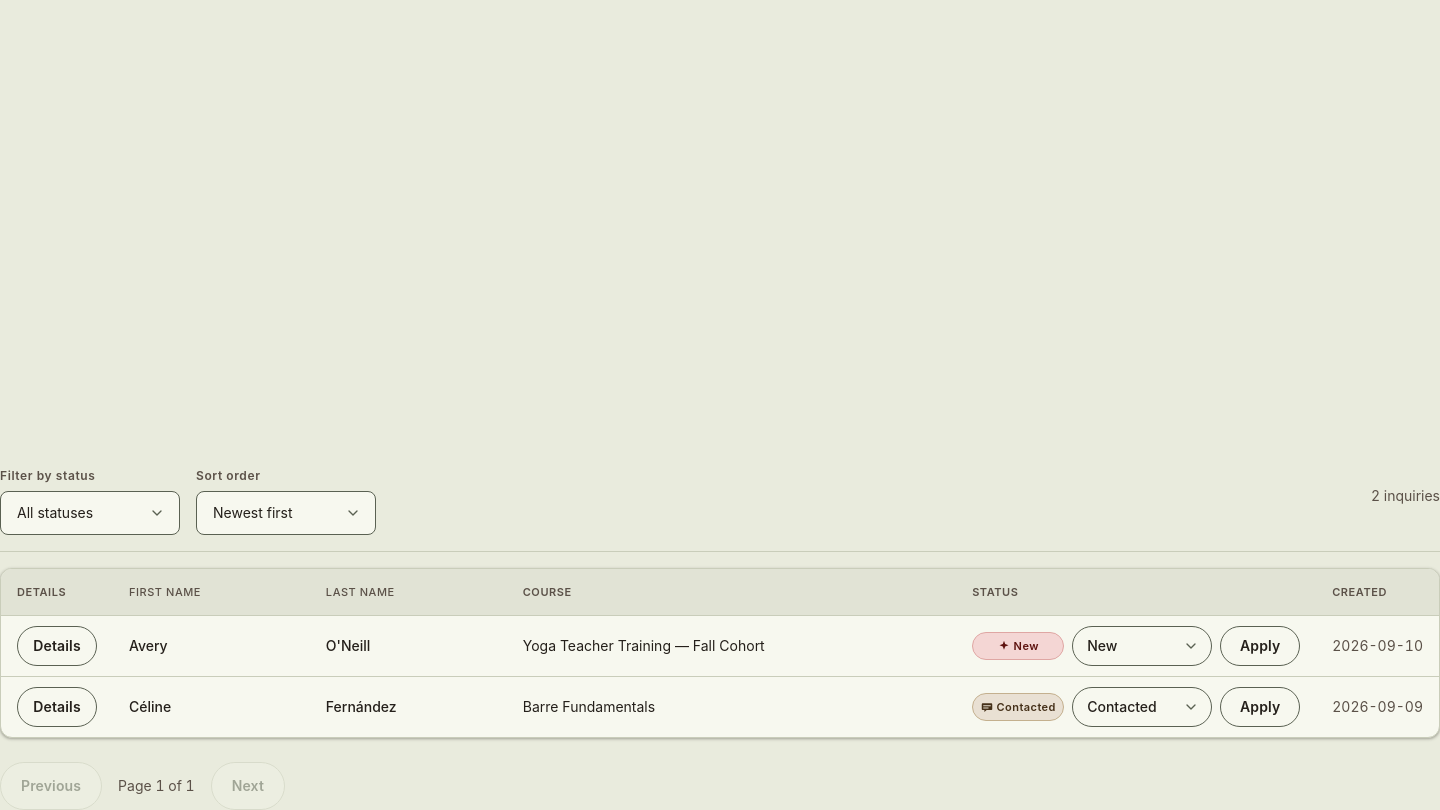
Test case: IT-UI-012 detail panel renders every field with explicit empty markers › fetches the record and shows all eleven fields, focusing the panel
(page scrolled)
expect the row "O'Neill" is shown: met, box [1,616,1439,676]
Click the button with aria-label "details for Avery O'Neill" at (57, 646), box [17,626,97,666]
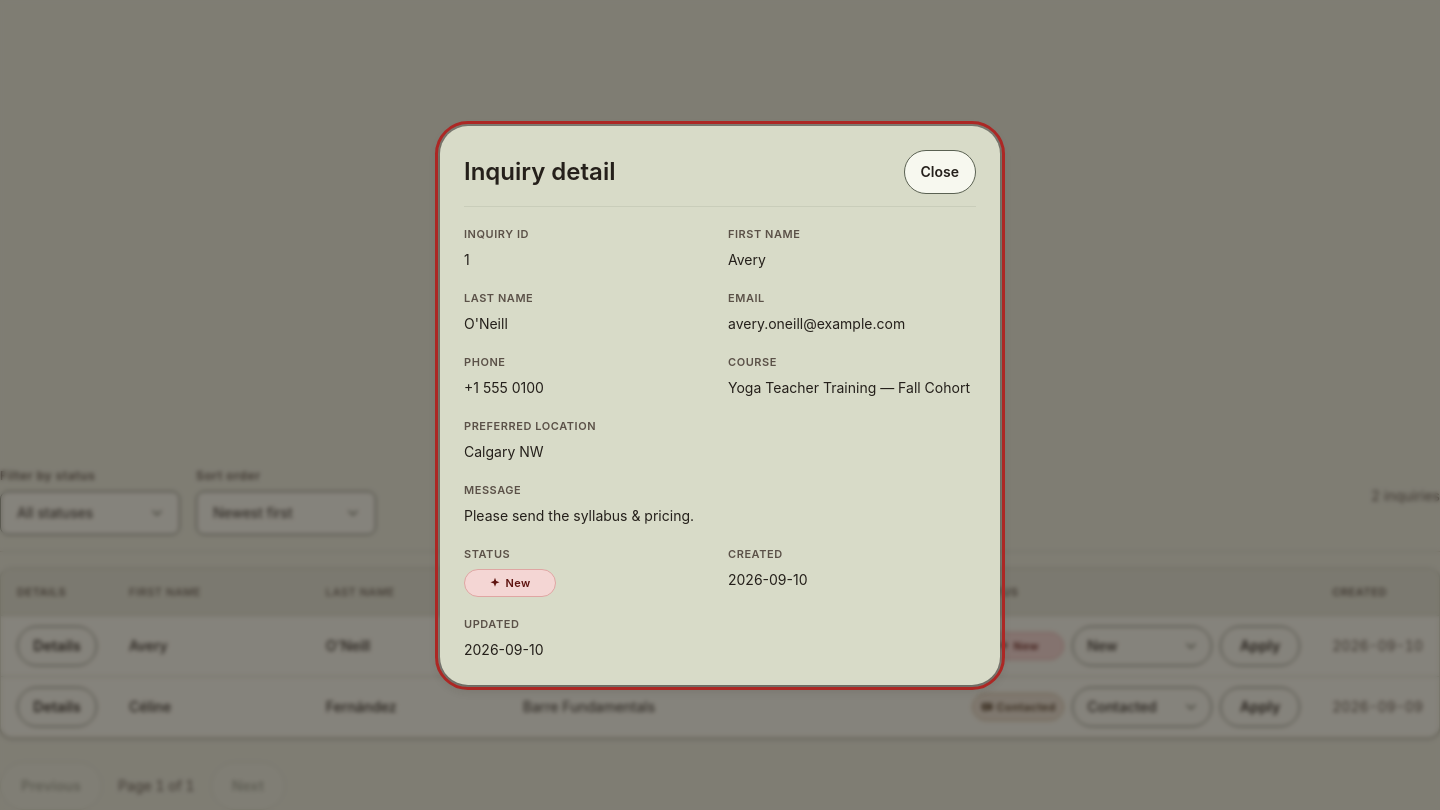
expect the text "Email" is shown: met, box [728,290,765,304]
expect the text "1" is shown: met, box [464,250,470,268]
expect the text "Avery" is shown: met, box [728,250,766,268]
